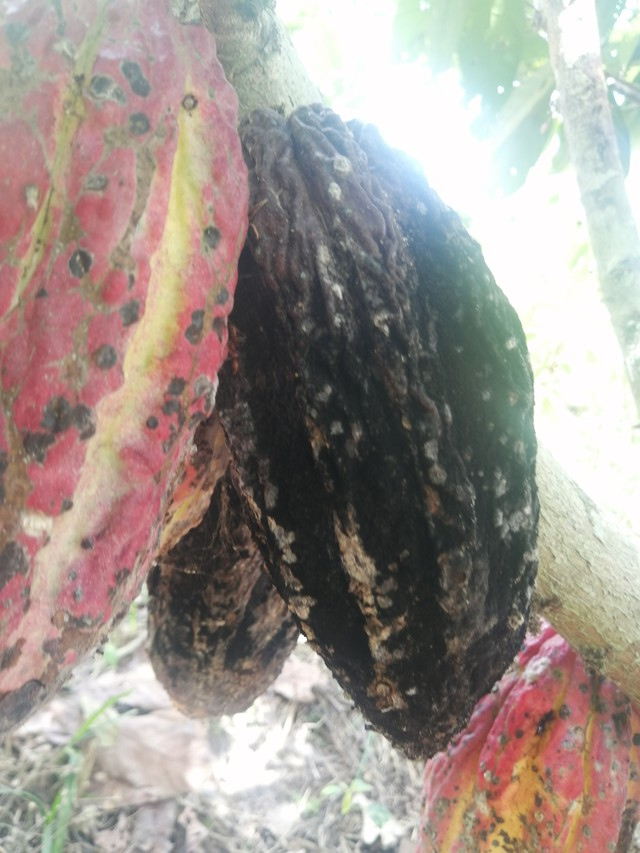moniliophthora roreri: (161, 82, 558, 772)
